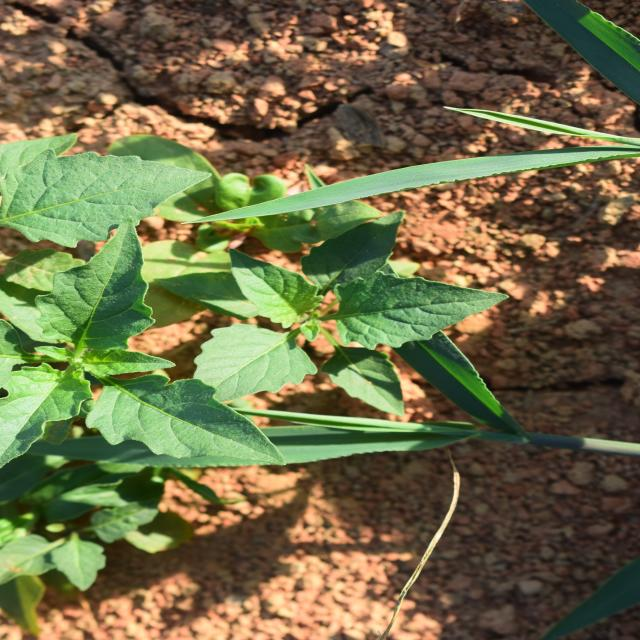Black_nightshade: (240, 190, 438, 482)
